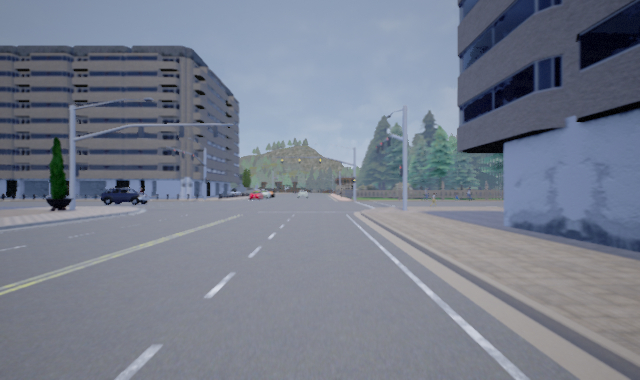pedestrian: (430, 191, 437, 206)
traffic_light: (398, 164, 403, 178), (387, 134, 392, 147), (380, 141, 385, 152)
vehicle: (100, 186, 148, 205), (248, 190, 262, 200), (297, 190, 308, 199)
